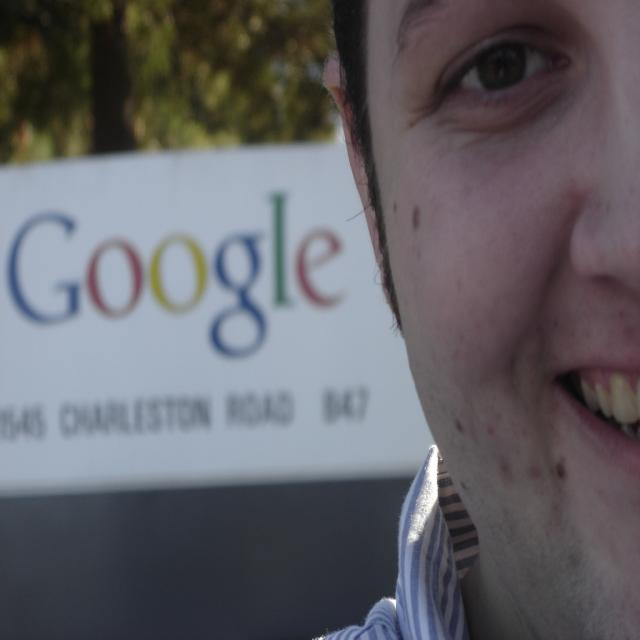google: (6, 188, 351, 372)
